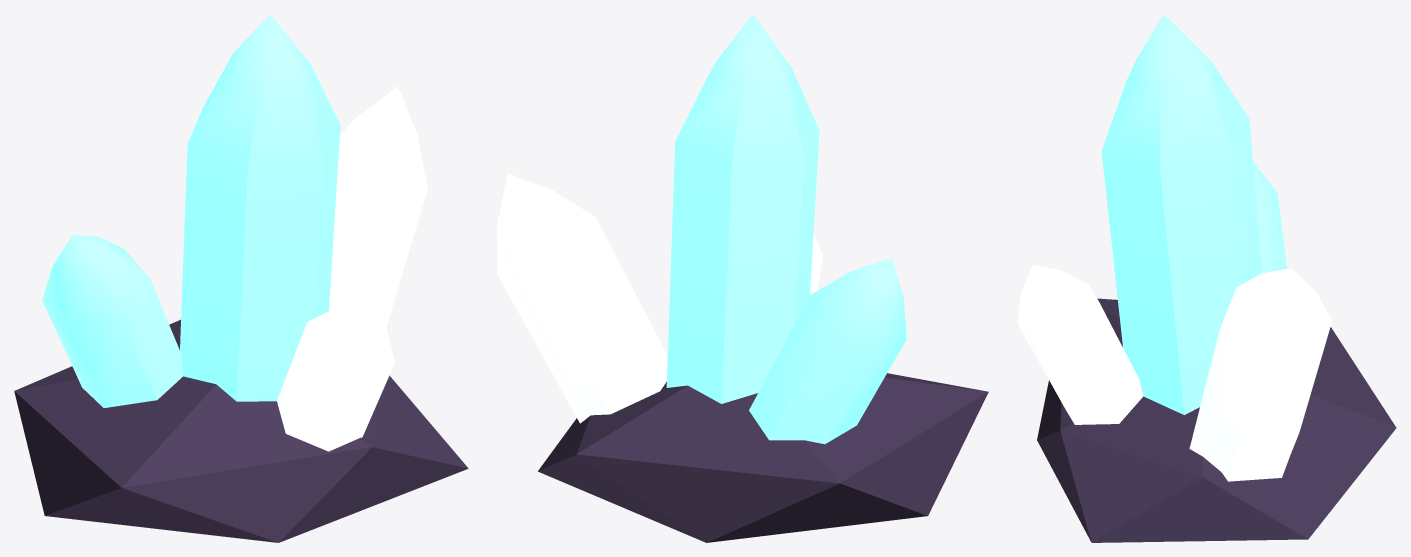
File: W4_Crystal_A.fbx
3 renders of one model, left to right at view 1: azimuth 30°, elevation 25°; view 2: azimuth 150°, elevation 25°; view 3: azimuth 270°, elevation 25°, orthographic. The views are drawn at different scales.
Visible parts, largest first — view 1: W4_Crystal_A; view 2: W4_Crystal_A; view 3: W4_Crystal_A.
Part boxes in pixels (left/top/right/bottom): W4_Crystal_A: left=14, top=14, right=468, bottom=542; W4_Crystal_A: left=497, top=14, right=988, bottom=542; W4_Crystal_A: left=1017, top=14, right=1396, bottom=542.
Bounding box in the file's own units: 2.48 × 2.69 × 2.04.
